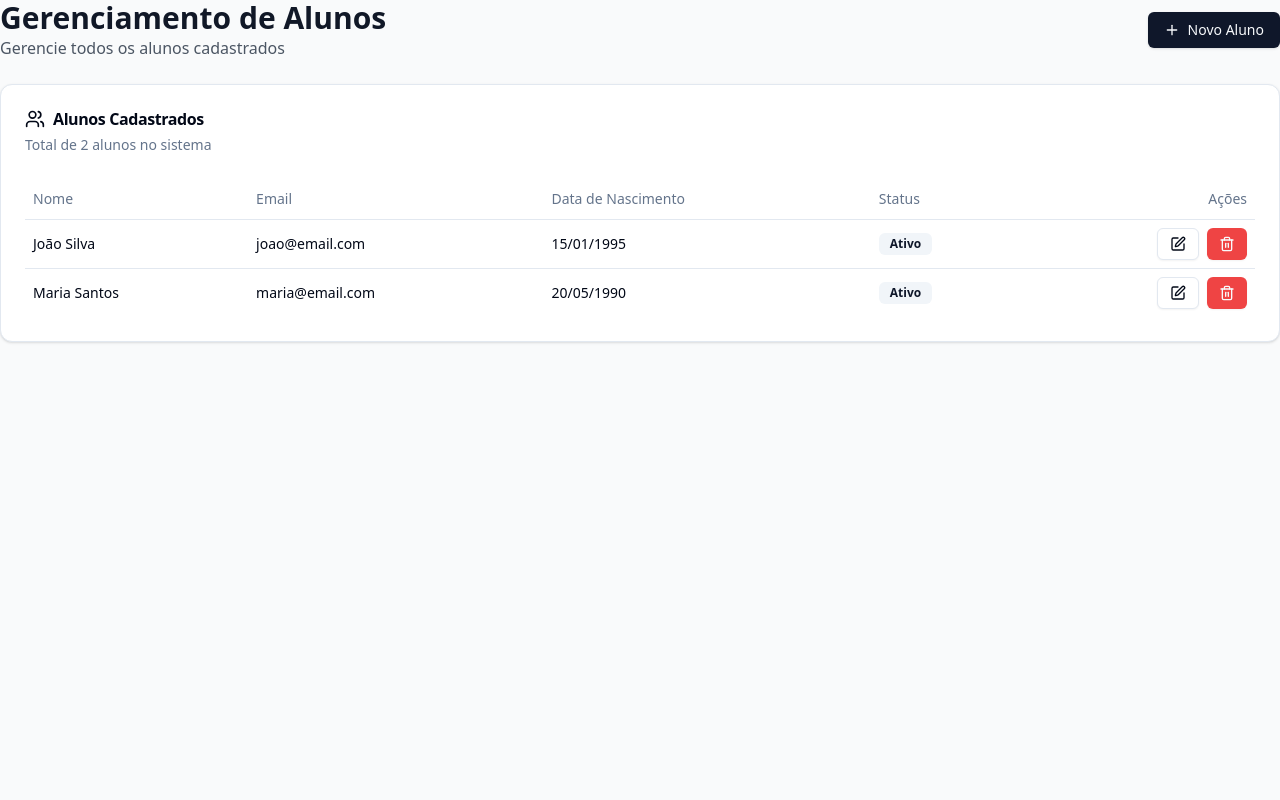
Test: AlunosPage › deve mostrar formulário ao clicar em Novo Aluno
Step 1. Click the button "Novo Aluno" → coordinates (1214, 30), box [1148,12,1279,48]
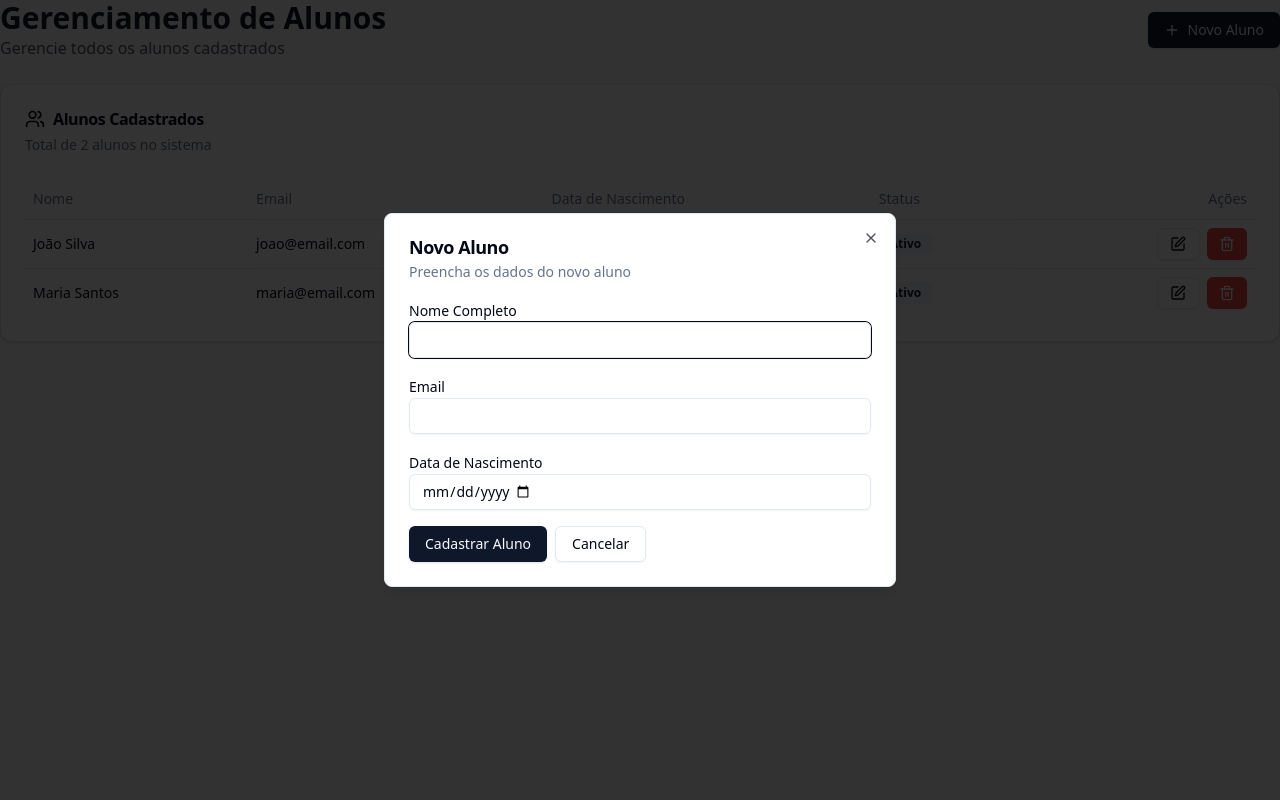
Check: the text "Preencha os dados do novo aluno" is shown, box [409,262,631,281]
Check: the field labelled "Nome Completo" is shown, box [409,322,871,358]
Check: the date field labelled "Data de Nascimento" is shown, box [409,474,871,510]
